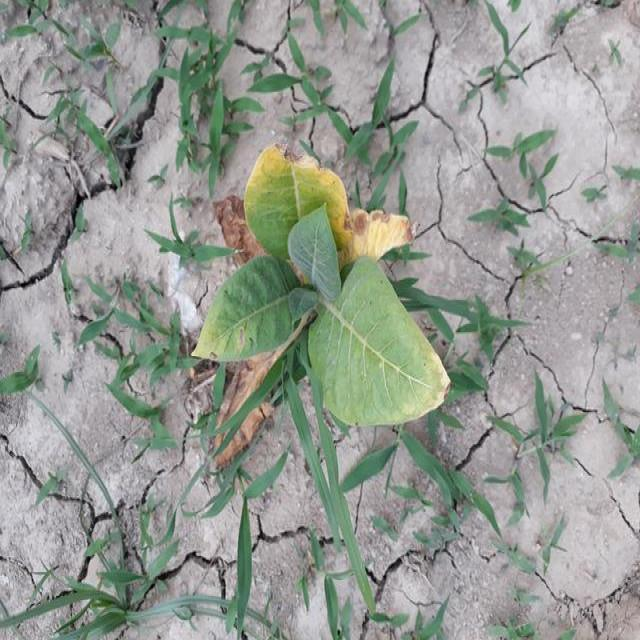crop: (197, 139, 448, 461)
